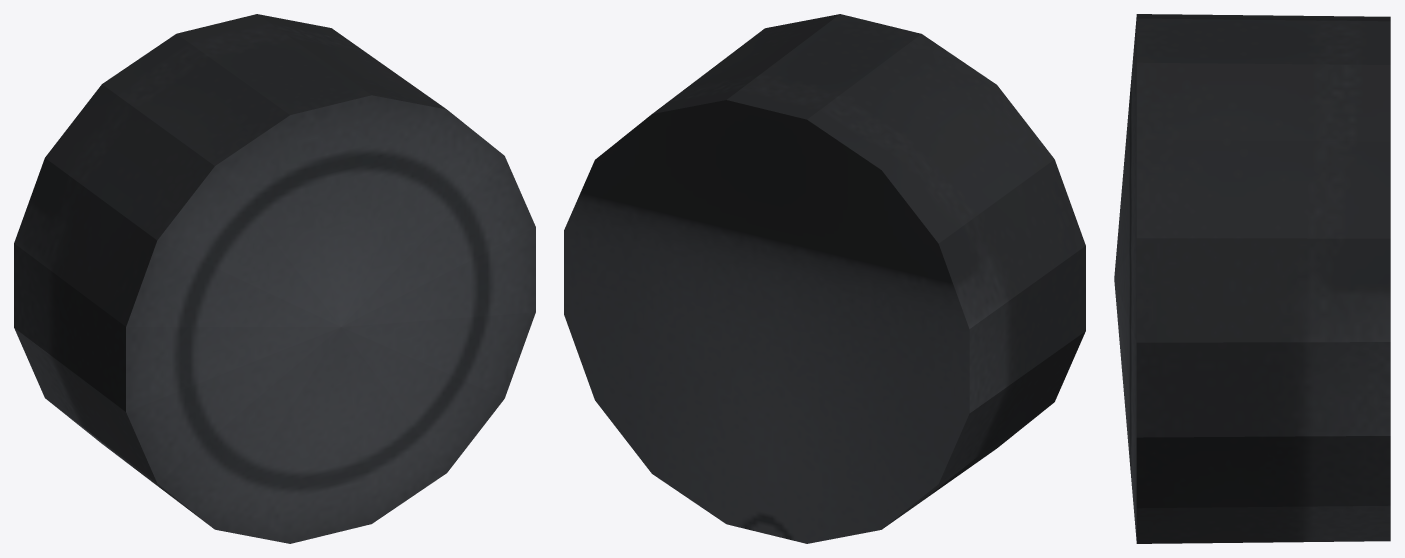
Rendered from Truthguard_Face.obj.
The picture shows the model from 3 angles, left to right: view 1: azimuth 30°, elevation 25°; view 2: azimuth 150°, elevation 25°; view 3: azimuth 270°, elevation 25°; orthographic projection. The views are drawn at different scales.
Parts seen in each view (by area): view 1: Truthguard_Face; view 2: Truthguard_Face; view 3: Truthguard_Face.
Part boxes in pixels (x1,y1,x2,y2): Truthguard_Face: (14,14,535,543); Truthguard_Face: (564,14,1085,543); Truthguard_Face: (1114,14,1390,543).
Size of the model in its own units: 0.1864 by 0.1864 by 0.098.
1 material, 1 textured.
